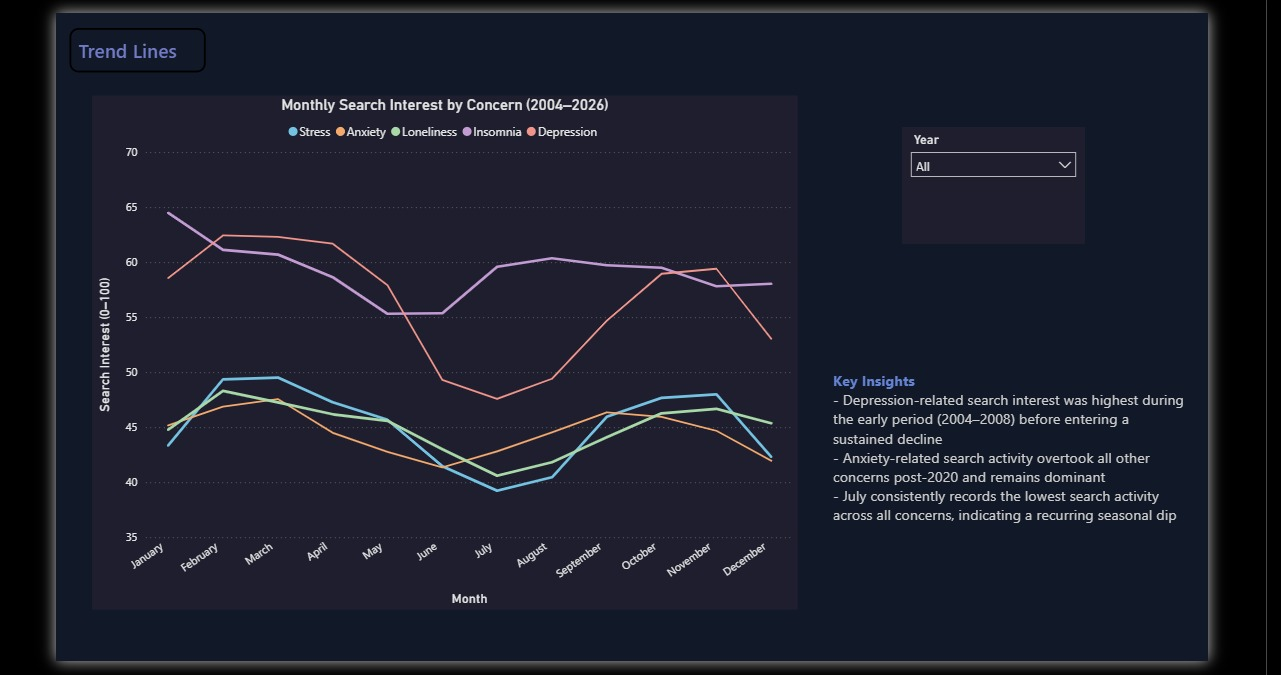

The dashboard page shown, as its layout file describes it:
{"tool":"powerbi","page":{"name":"Overview (Trend Lines)","canvas":[1280,720],"ordinal":1},"visuals":[{"type":"lineChart","title":"Monthly Search Interest by Concern (2004–2026)","fields":{"Y":["_Measures.Avg Stress","_Measures.Avg Anxiety","_Measures.Avg Loneliness","_Measures.Avg Insomnia","_Measures.Avg Depression"],"Category":["powerbi_monthly.date.Variation.Date Hierarchy.Month"]},"box":[40.5,92.3,783.7,571.6],"z":0},{"type":"slicer","fields":{"Values":["DateTable.Year"]},"box":[940,126.7,203.3,130],"z":1000},{"type":"textbox","box":[14.3,15.9,151.1,49.3],"z":2000},{"type":"textbox","box":[858.3,391.7,408.3,210],"z":3000}]}

Visuals, with their boxes on the page's 1280x720 design canvas (x1, y1, x2, y2). These are canvas units, not pixel positions in the 1281x675 screenshot, which may show the page scaled, cropped or inside an application window:
"Monthly Search Interest by Concern (2004–2026)" lineChart: box(40, 92, 824, 664)
slicer - DateTable.Year: box(940, 127, 1143, 257)
textbox: box(14, 16, 165, 65)
textbox: box(858, 392, 1267, 602)
